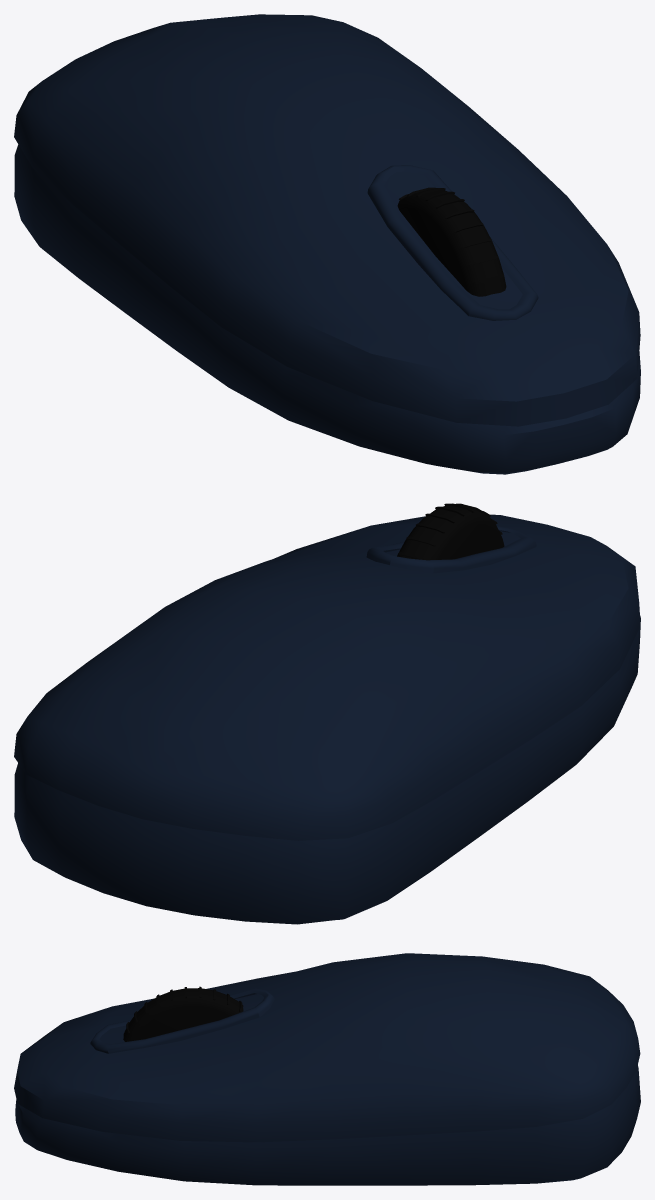
The model's file is Souris.glb.
3 renders of one model, top to bottom at view 1: azimuth 30°, elevation 25°; view 2: azimuth 150°, elevation 25°; view 3: azimuth 270°, elevation 25°, orthographic. The views are drawn at different scales.
Parts seen in each view (by area): view 1: souris2.002; view 2: souris2.002; view 3: souris2.002.
Boxes of the visible parts, bbox=[...] form: souris2.002: bbox=[14, 14, 640, 474]; souris2.002: bbox=[14, 503, 640, 924]; souris2.002: bbox=[14, 953, 640, 1185].
Size of the model in its own units: 0.1239 by 0.0671 by 0.2502.
